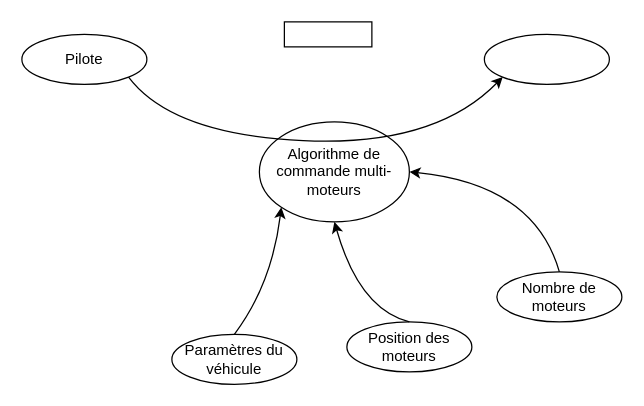
This 644x406 diagram has some shape labels left out. The shapes that lost their labels are listed below. From the top down, each one's centre as x and y in pixels, then its label:
point 327,34: Utilisation
point 546,58: Moteurs
